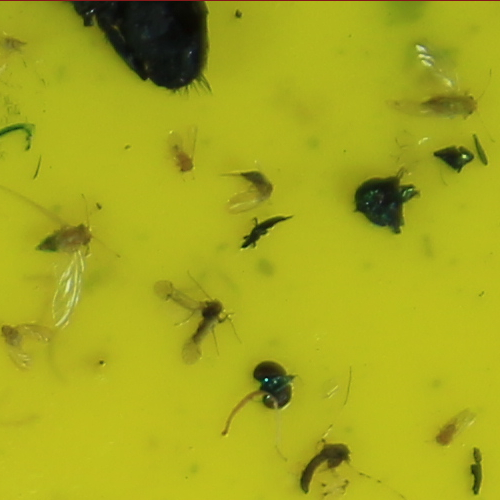psylla: (35, 219, 100, 256), (421, 85, 481, 120), (430, 410, 469, 450), (239, 165, 276, 202), (164, 140, 198, 176)
